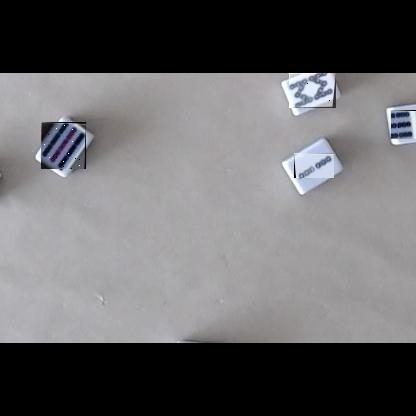2s: (294, 153, 334, 178)
7s: (390, 110, 416, 139)
8s: (289, 73, 336, 108)
9s: (41, 122, 86, 169)
